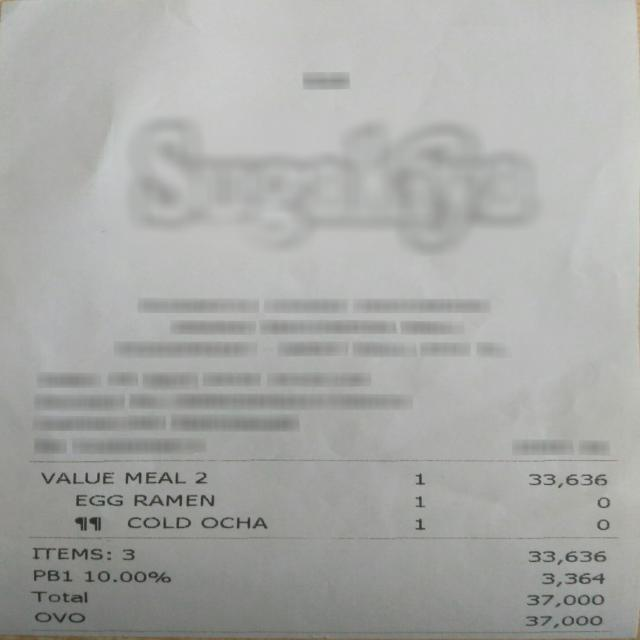text: (528, 474, 606, 488), (528, 551, 606, 565), (84, 571, 170, 583), (32, 547, 111, 560), (133, 494, 213, 506), (540, 572, 604, 587), (526, 595, 603, 607), (525, 616, 602, 628), (41, 472, 114, 484), (30, 590, 88, 604), (200, 517, 267, 529), (127, 516, 191, 528), (126, 472, 188, 483), (75, 494, 122, 506), (34, 612, 84, 623), (73, 516, 102, 532), (33, 570, 72, 581), (192, 472, 210, 484), (596, 496, 610, 508), (412, 518, 426, 530), (596, 519, 609, 530), (122, 549, 134, 560), (414, 496, 424, 507), (414, 474, 424, 484)
